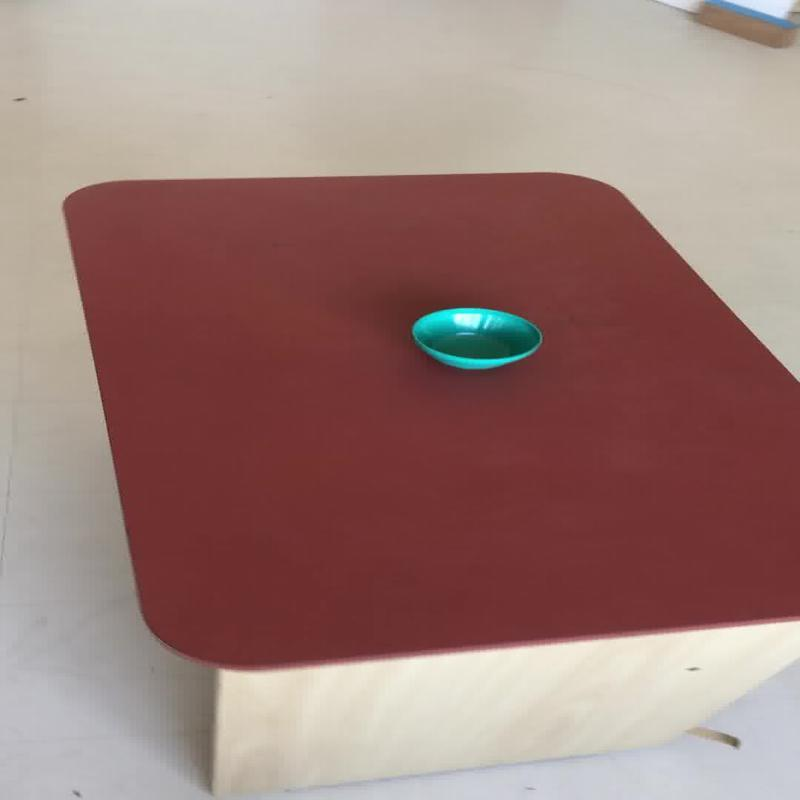bowl: (409, 306, 542, 370)
